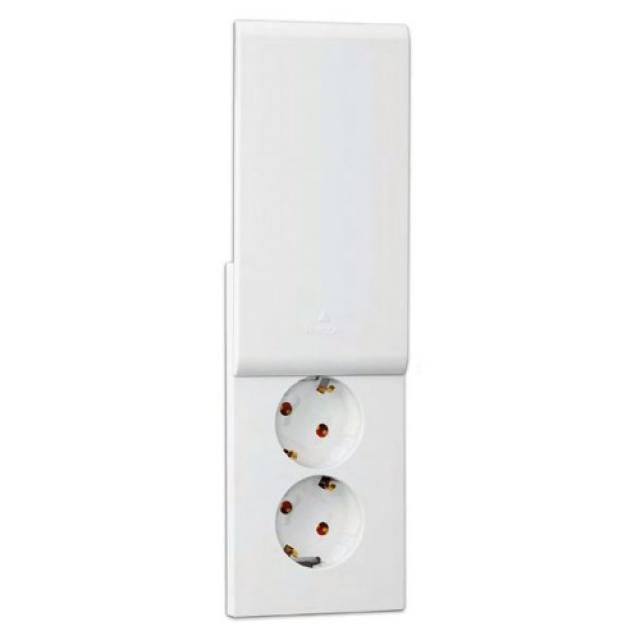typeb: (143, 297, 479, 640)
